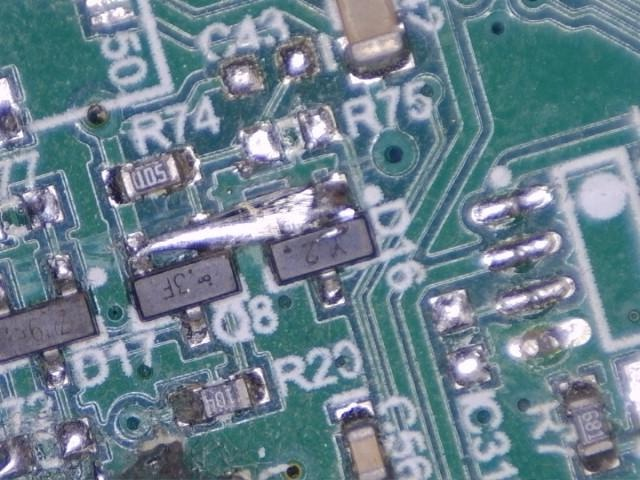pcb_defect: (128, 181, 358, 263)
